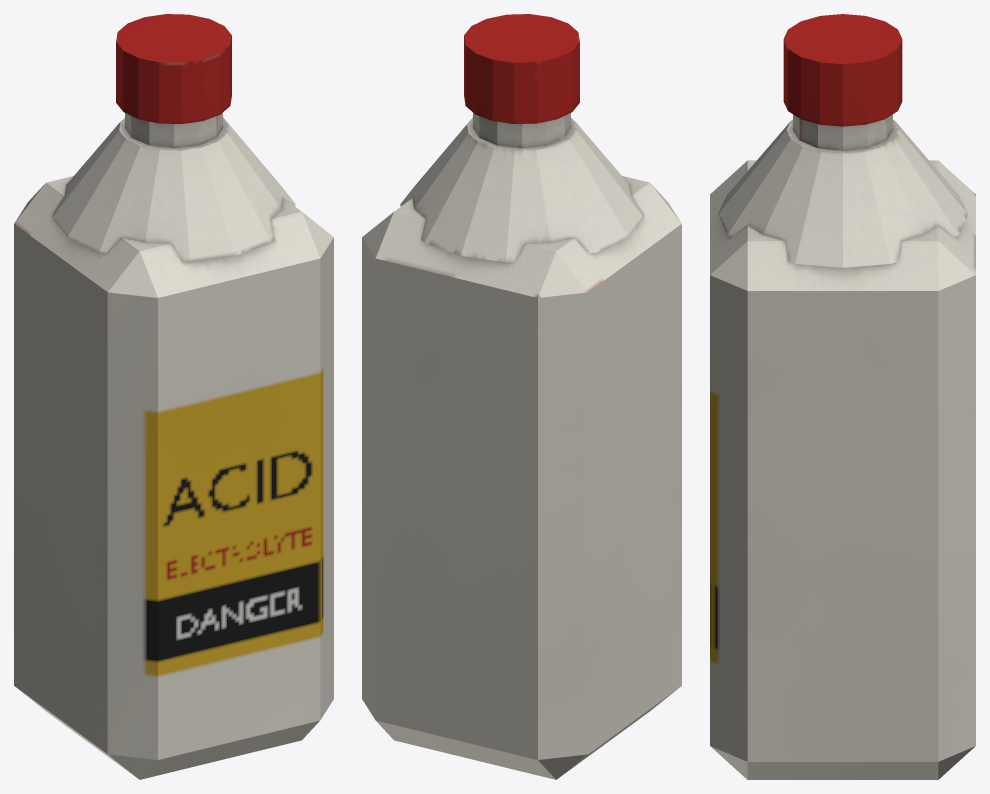
The model's file is RenewableEnergy_BatteryElectrolyte.fbx.
3 views of the same model, side by side, from view 1: azimuth 30°, elevation 25°; view 2: azimuth 150°, elevation 25°; view 3: azimuth 270°, elevation 25° (orthographic).
Parts seen in each view (by area): view 1: BatteryElectrolyte; view 2: BatteryElectrolyte; view 3: BatteryElectrolyte.
Boxes of the visible parts, x1,y1,x2,y2 form: BatteryElectrolyte: (14, 14, 333, 779); BatteryElectrolyte: (362, 14, 681, 779); BatteryElectrolyte: (710, 14, 975, 779).
Bounding box in the file's own units: 0.085 × 0.247 × 0.085.
